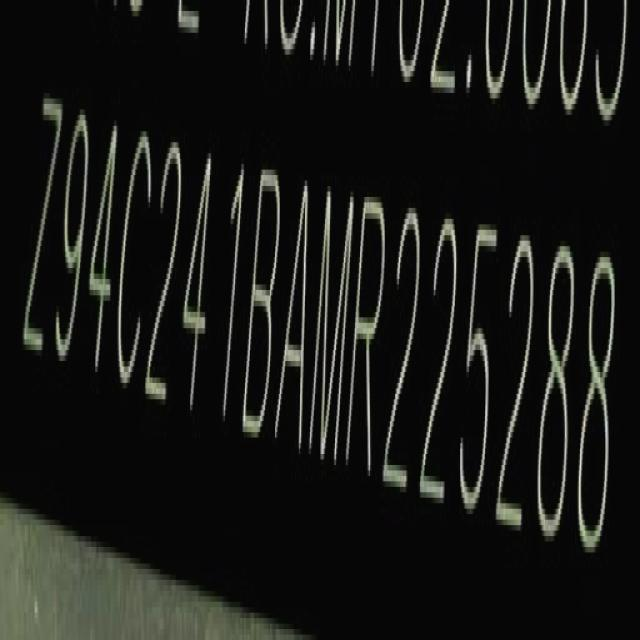1: (217, 160, 246, 436)
2: (500, 230, 539, 536), (386, 200, 425, 502), (424, 210, 462, 514), (148, 138, 182, 413)
4: (87, 112, 121, 384), (182, 146, 215, 424)
5: (458, 218, 498, 522)
8: (582, 260, 620, 558), (541, 245, 578, 548)
9: (55, 102, 91, 377)
A: (276, 173, 314, 450)
B: (245, 158, 284, 442)
C: (116, 122, 156, 400)
M: (310, 183, 353, 468)
R: (346, 193, 388, 484)
Z: (18, 89, 64, 370)
